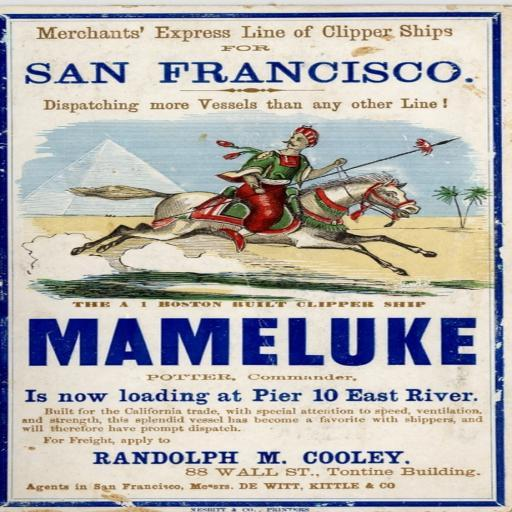Horse: (60, 168, 442, 277)
